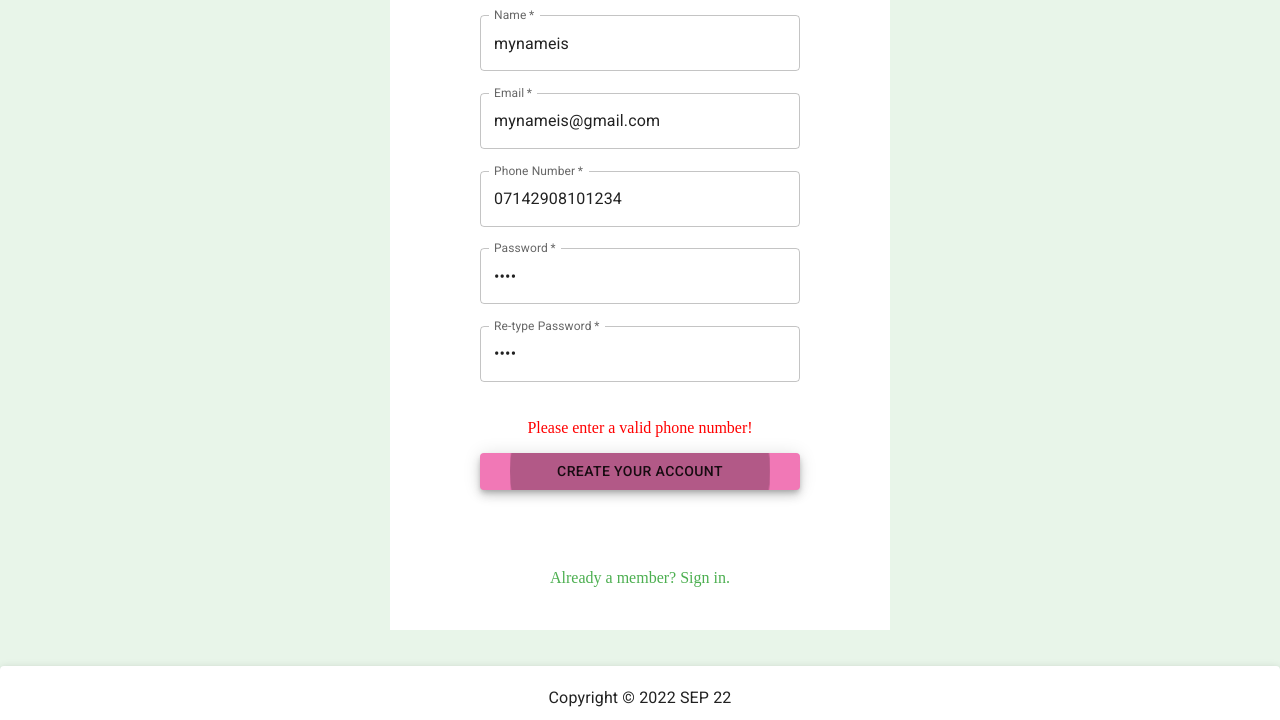
Signup Page works correctly › Check with Mismatching password
(page scrolled)
Replace the text in the field with id "outlined-basic" with "0714290810". click: (640, 199)
box: [480,171,800,227]
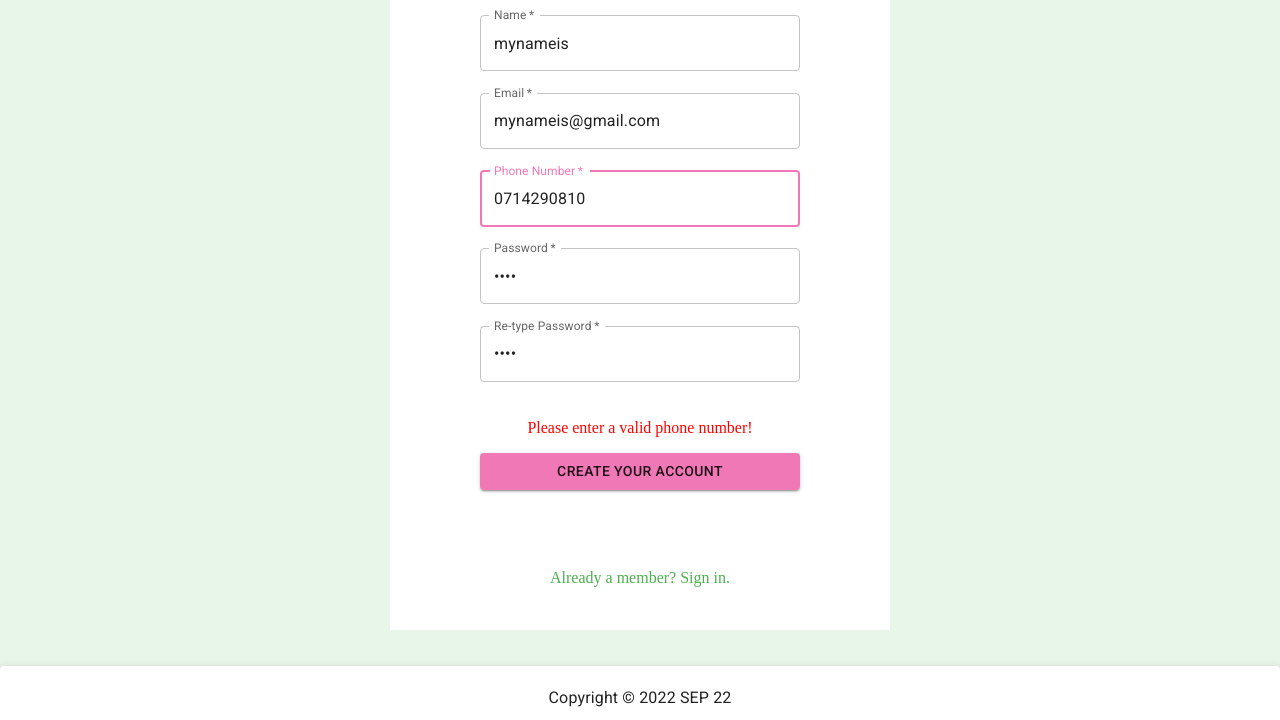
Type "pass" into the password field with id "outlined-basic". click: (640, 276)
box: [480,248,800,304]
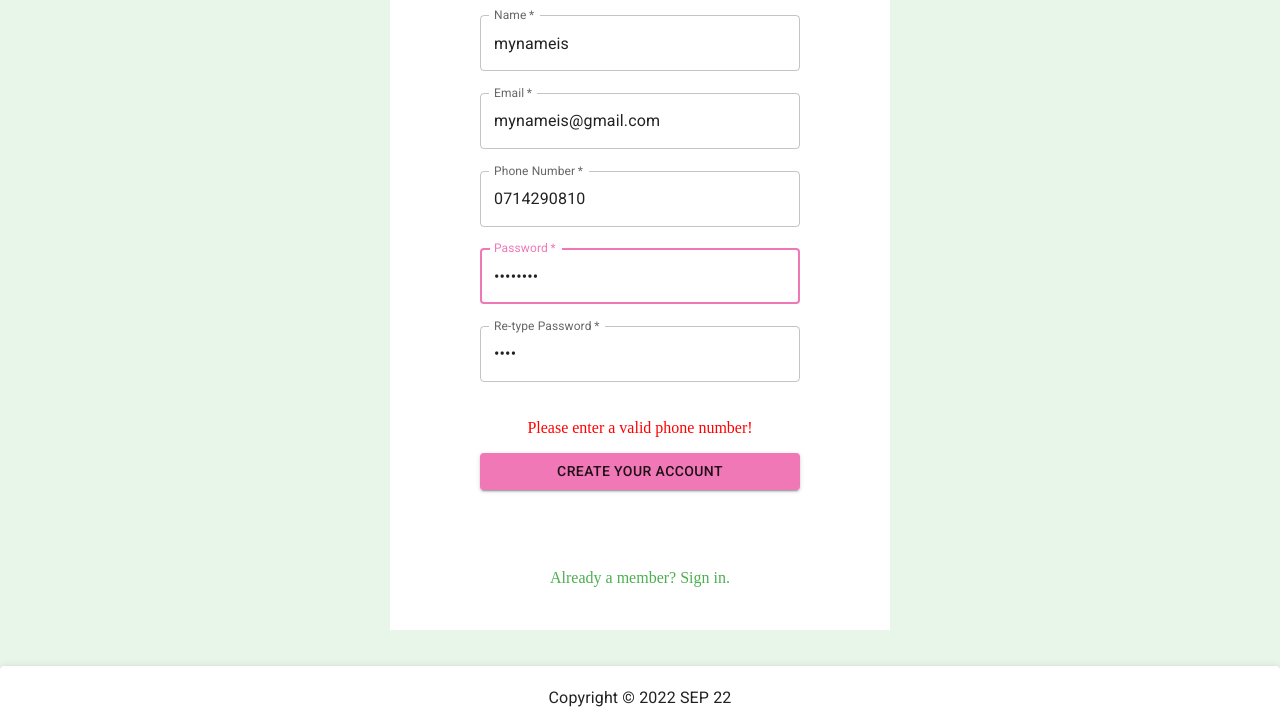
Type "password" into the password field with id "outlined-basic". click: (640, 354)
box: [480,326,800,382]
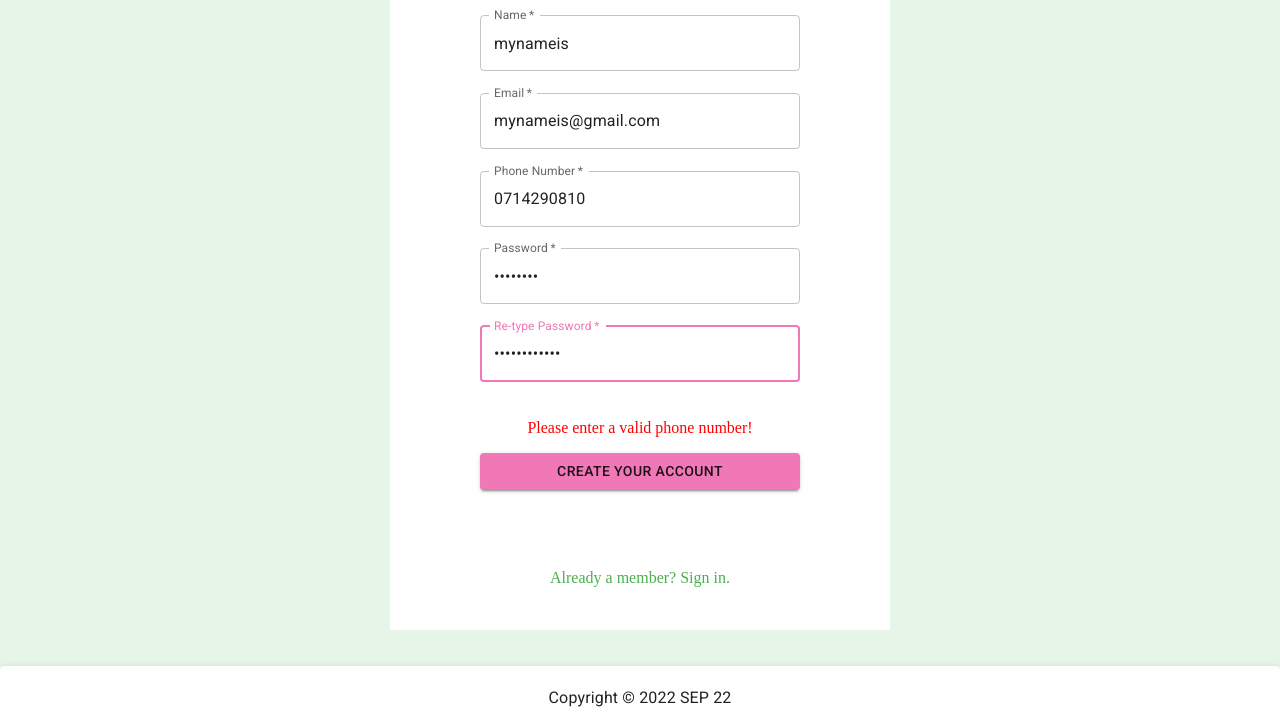
Click the button "CREATE YOUR ACCOUNT". click: (640, 472)
box: [480,453,800,490]
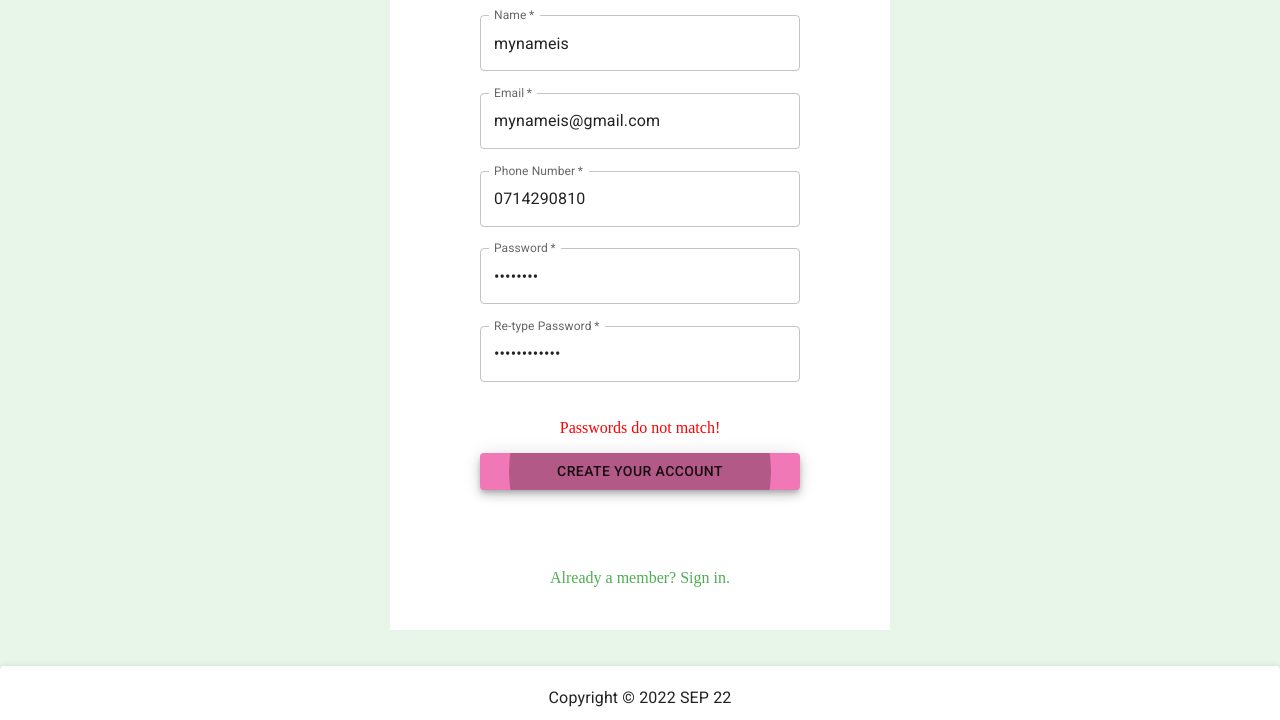
Expected: the text "Passwords do not match!" is shown, [560,419,720,437]
